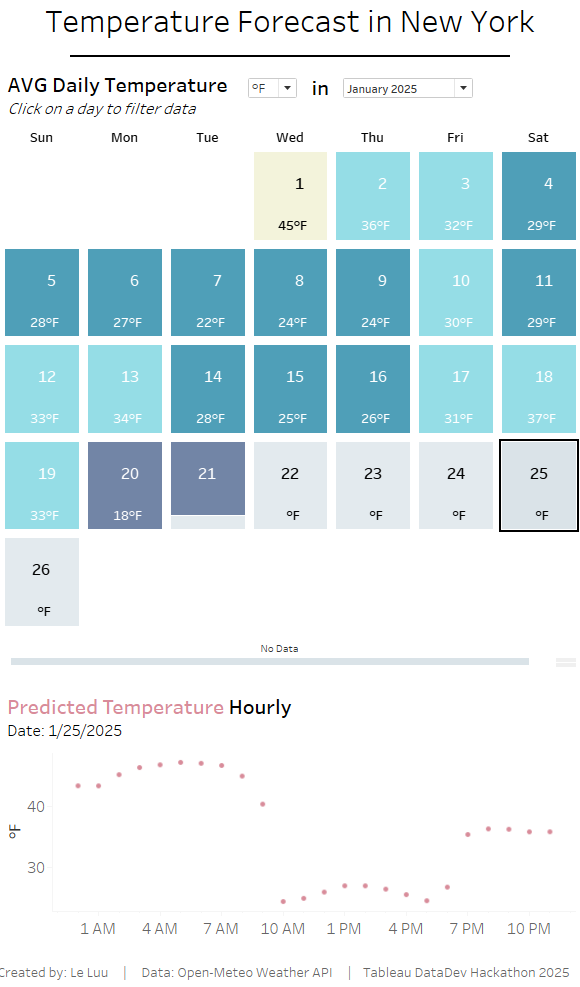

The page's visual inventory and layout, read from the dashboard file:
{"tool":"tableau","page":{"name":"Temp Forecast","canvas":[600,1000],"ordinal":0},"visuals":[{"type":"text","box":[0,0,600,62]},{"type":"blank","box":[0,62,600,10]},{"type":"text","box":[10,78,241,56]},{"type":"parameter","param":"[Parameters].[Parameter 2]","box":[251,78,63,56]},{"type":"text","box":[314,78,32,56]},{"type":"filter","title":"Calendar","param":"[sqlproxy.06aflty0qioahp10ntb8f0ut0j5n].[time (Month / Year) Set]","box":[346,78,244,56]},{"type":"worksheet","title":"Calendar","mark":"Square","rows":["time"],"cols":["time"],"box":[0,138,600,503]},{"type":"worksheet","title":"Sheet 7","mark":"GanttBar","cols":["Calculation_1119988971004014603","Calculation_926897137326551072"],"box":[0,641,600,45]},{"type":"worksheet","title":"not_null","mark":"Circle","rows":["Calculation_926897137335386149"],"cols":["time"],"box":[0,682,600,284]},{"type":"worksheet","title":"incl_null","mark":"Circle","rows":["Calculation_926897137335107620","Calculation_926897137335386149"],"cols":["time"],"box":[0,686,600,280]},{"type":"text","box":[0,966,600,34]}]}

Visuals, with their boxes in screenshot pixels (x1, y1, x2, y2), scaled from the page's 600x1000 canvas onto the 580x987 screenshot:
text: region(0, 0, 579, 61)
blank: region(0, 61, 579, 71)
text: region(10, 77, 243, 132)
parameter: region(243, 77, 304, 132)
text: region(304, 77, 334, 132)
"Calendar" filter: region(334, 77, 570, 132)
"Calendar" worksheet (Square marks): region(0, 136, 579, 633)
"Sheet 7" worksheet (GanttBar marks): region(0, 633, 579, 677)
"not_null" worksheet (Circle marks): region(0, 673, 579, 953)
"incl_null" worksheet (Circle marks): region(0, 677, 579, 953)
text: region(0, 953, 579, 986)
